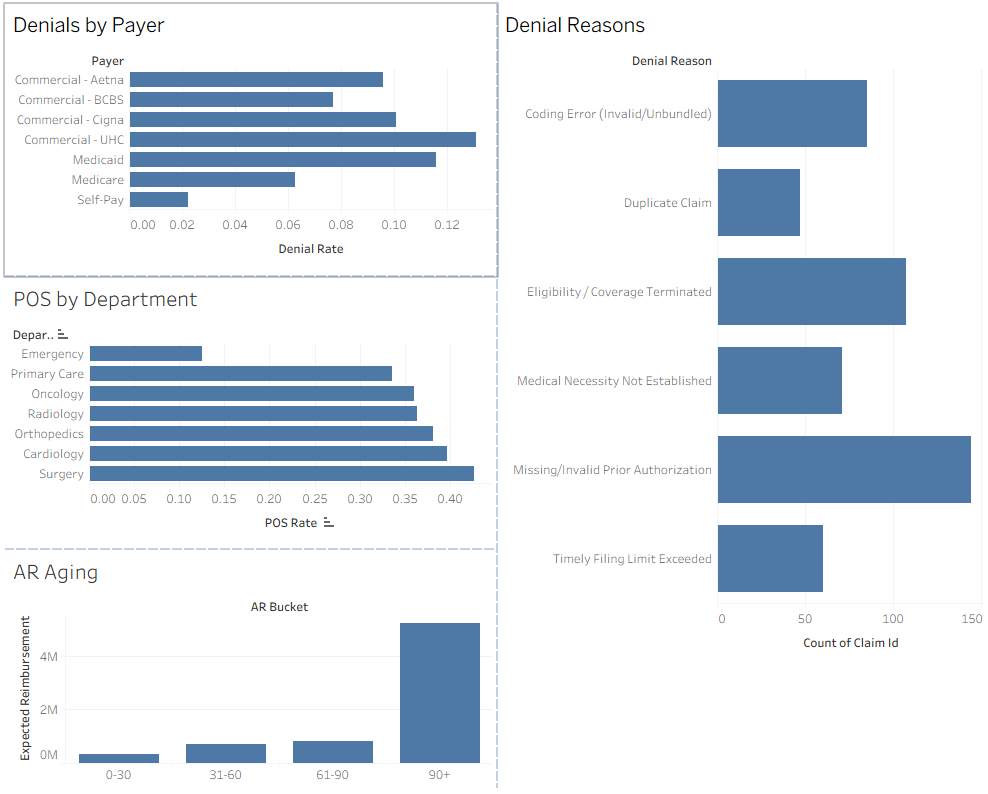

Layout of this report page (visuals, bound fields, positions):
{"tool":"tableau","page":{"name":"Dashboard 1","canvas":[1000,800],"ordinal":0},"visuals":[{"type":"worksheet","title":"Denials by Payer","mark":"Automatic","rows":["payer"],"cols":["Calculation_1913728696774656"],"box":[8,8,492,273]},{"type":"worksheet","title":"Denial Reasons","mark":"Automatic","rows":["denial_reason"],"cols":["claim_id"],"box":[500,8,492,784]},{"type":"worksheet","title":"POS by Department","mark":"Automatic","rows":["department"],"cols":["Calculation_1913728697057281"],"box":[8,281,492,272]},{"type":"worksheet","title":"AR Aging","mark":"Automatic","rows":["expected_reimbursement"],"cols":["Calculation_1913728697180162"],"box":[8,553,492,239]}]}

Visuals, with their boxes in screenshot pixels (x1, y1, x2, y2), scaled from the page's 1000x800 canvas onto the 988x794 screenshot:
"Denials by Payer" worksheet: bbox=[8, 8, 494, 279]
"Denial Reasons" worksheet: bbox=[494, 8, 980, 786]
"POS by Department" worksheet: bbox=[8, 279, 494, 549]
"AR Aging" worksheet: bbox=[8, 549, 494, 786]
